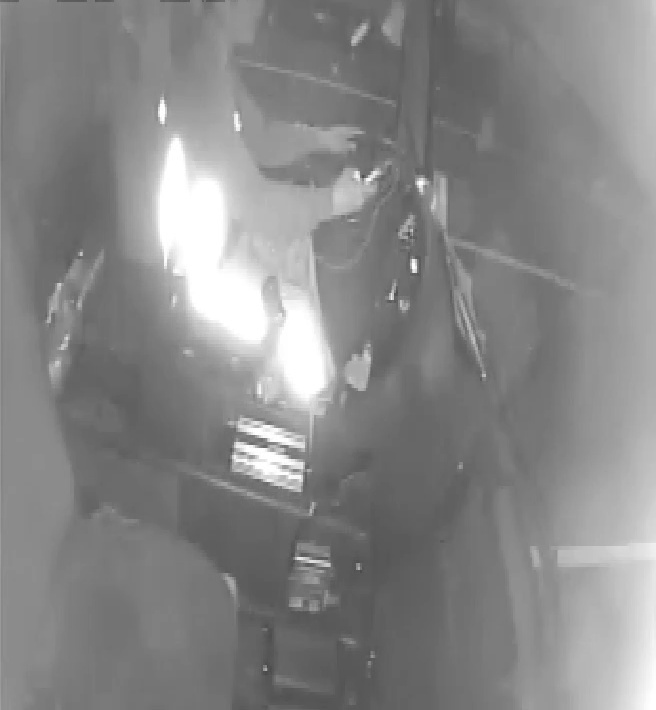cellphone: (339, 160, 385, 192)
